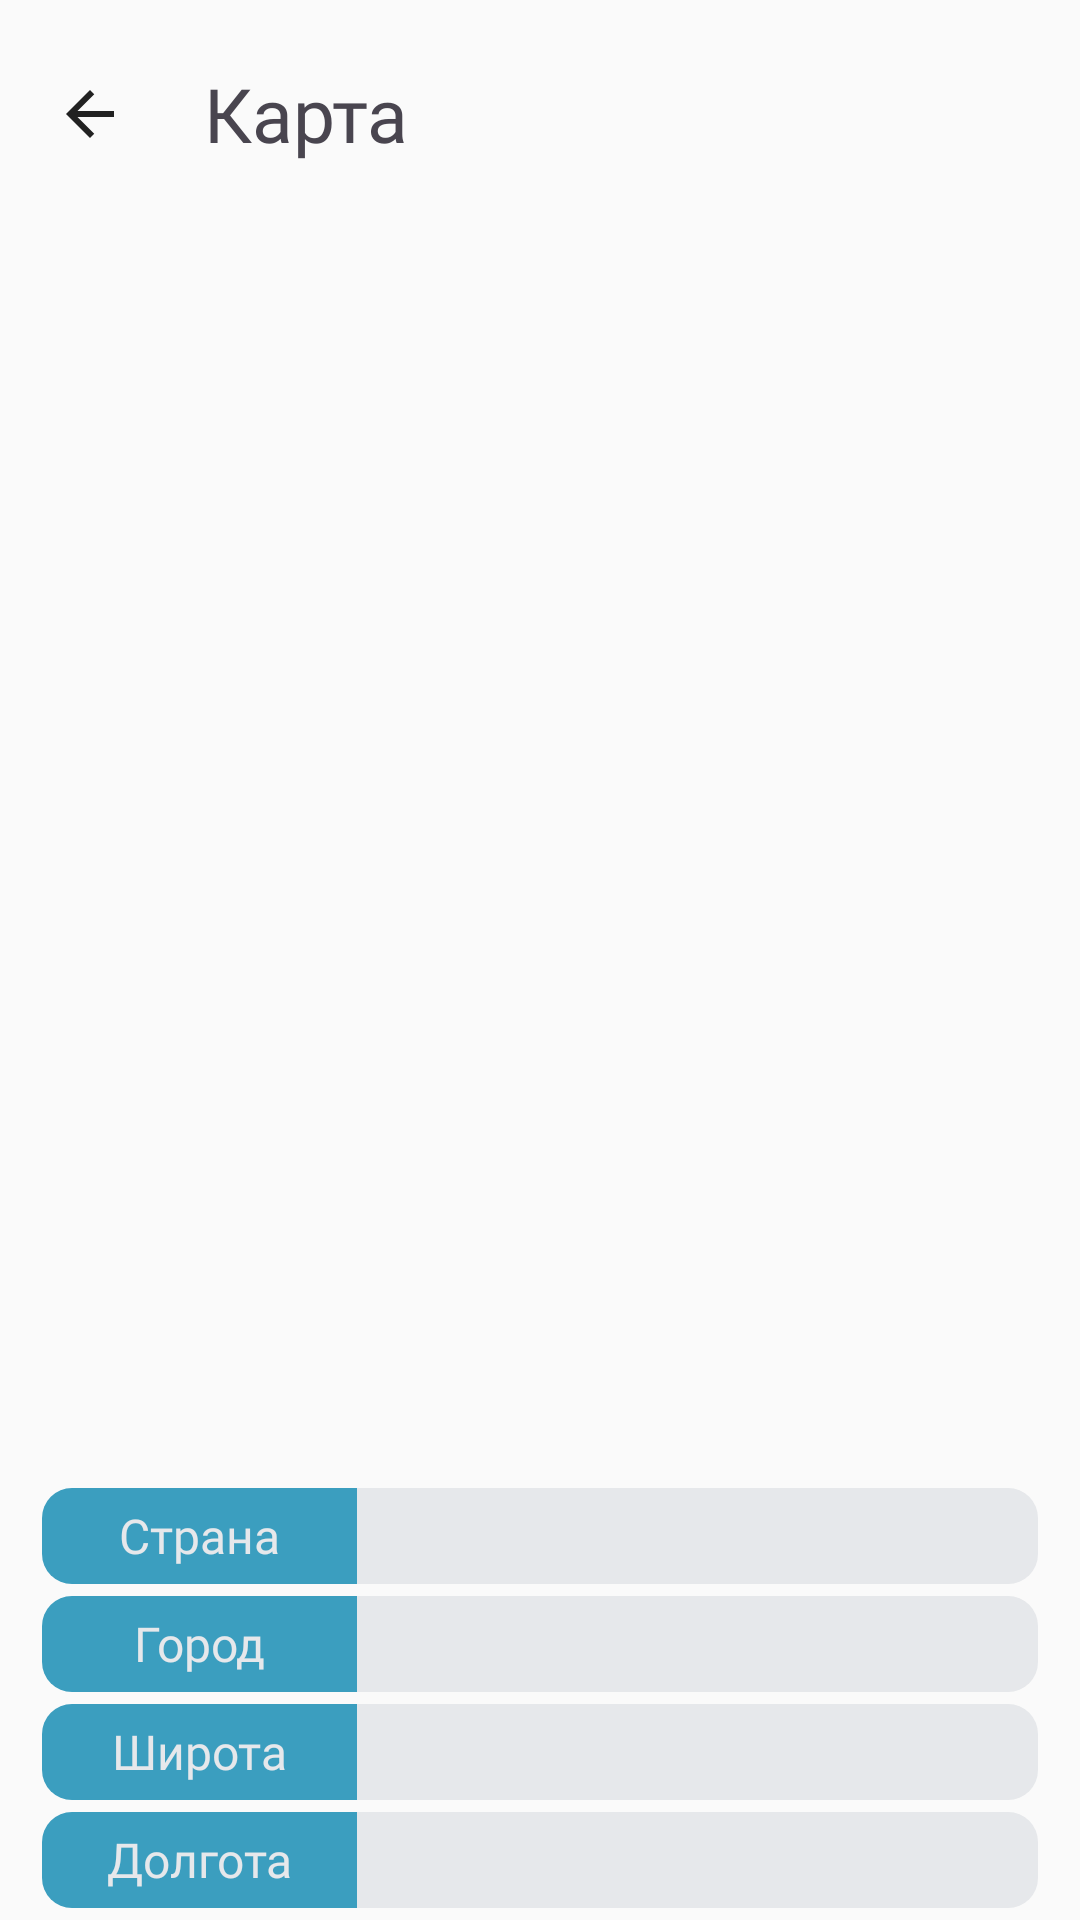

Screen size 1080x1920. Icon name, then its box in pixels as {"x1": x1, "y1": y1, "x2": x2, "y2": y2}:
back: {"x1": 66, "y1": 90, "x2": 114, "y2": 138}
